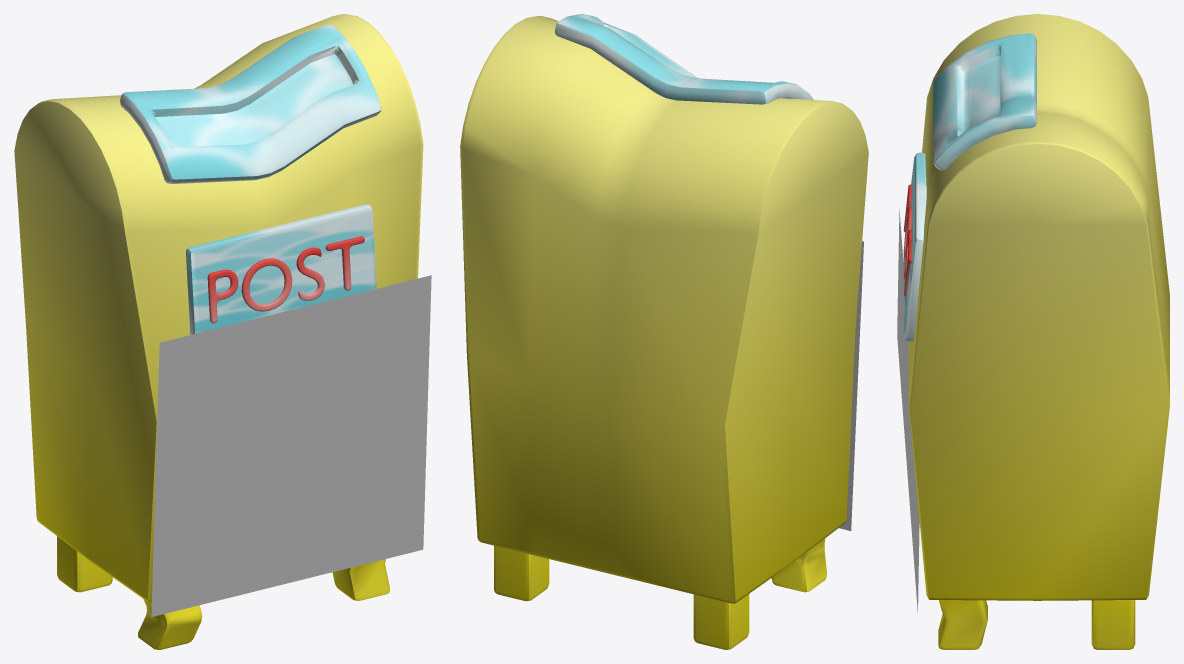
File: Mailbox_B_yellow.fbx
3 views of the same model, side by side, from view 1: azimuth 30°, elevation 25°; view 2: azimuth 150°, elevation 25°; view 3: azimuth 270°, elevation 25° (orthographic).
Visible parts, largest first — view 1: MailboxB_yellow; view 2: MailboxB_yellow; view 3: MailboxB_yellow.
Boxes of the visible parts, <box> form: MailboxB_yellow: <box>14,14,431,649</box>; MailboxB_yellow: <box>460,14,868,649</box>; MailboxB_yellow: <box>897,14,1169,649</box>.
Bounding box in the file's own units: 1.37 × 1.09 × 2.35.
